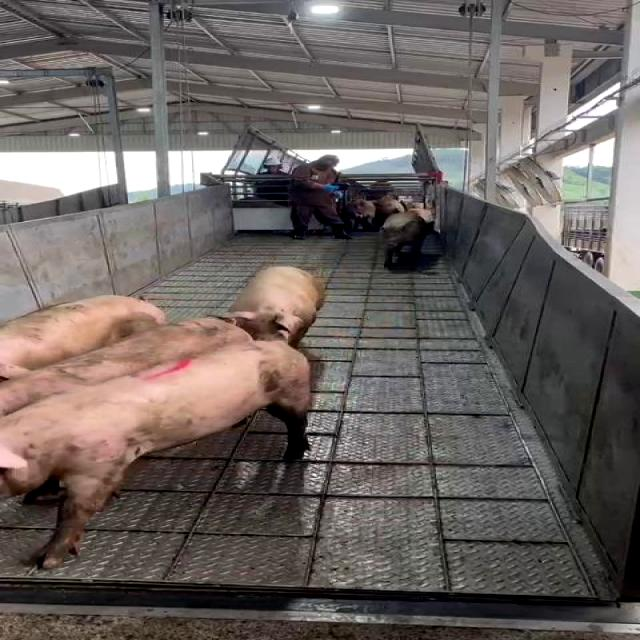pig: (0, 341, 309, 568), (0, 319, 250, 416), (0, 295, 167, 378), (225, 266, 323, 346), (380, 209, 433, 267)
